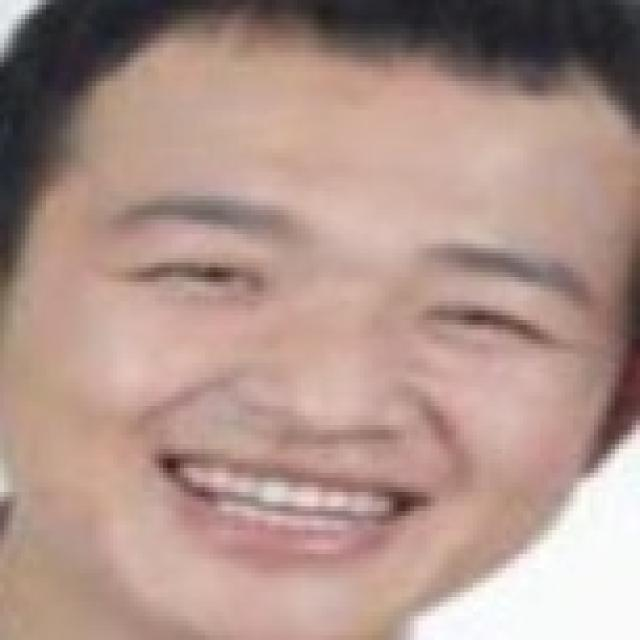no_mask: (31, 28, 596, 640)
